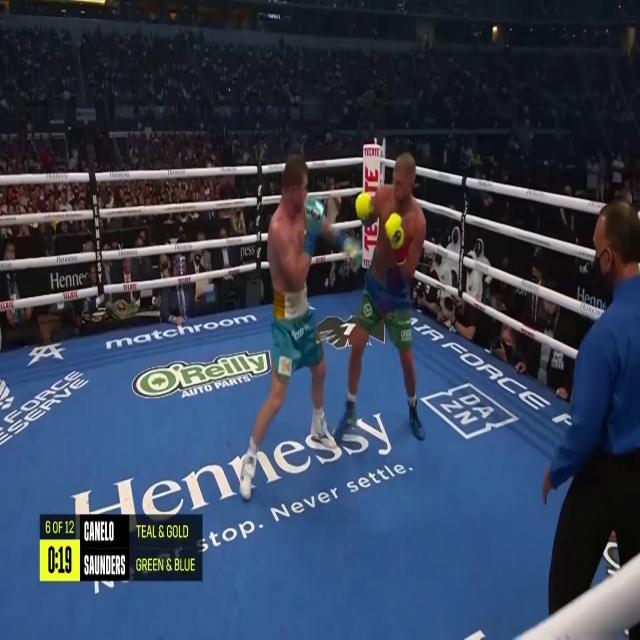boxer_1: (375, 156, 417, 268)
boxer_2: (269, 157, 307, 294)
gloves_1: (386, 210, 407, 266), (357, 190, 375, 225), (369, 193, 373, 197)
gloves_2: (330, 228, 365, 271), (305, 197, 323, 258)
